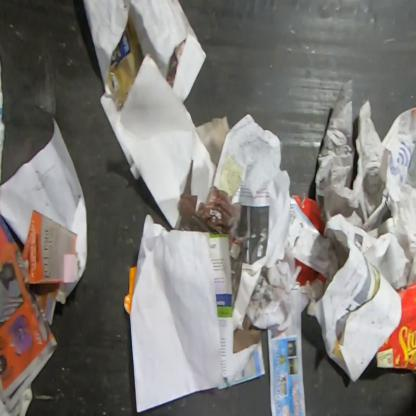cardboard: (376, 280, 415, 370), (292, 192, 324, 236), (295, 259, 327, 286)
